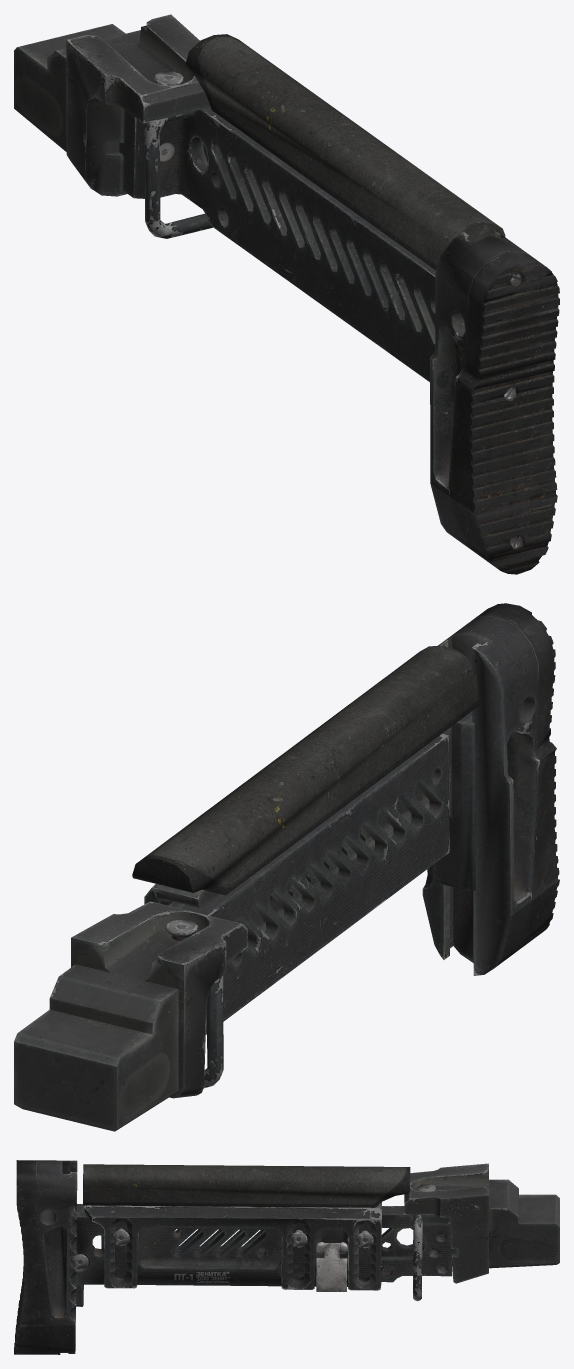
File: coronha_rebativel_akmn.glb
The picture shows the model from 3 angles, top to bottom: view 1: azimuth 30°, elevation 25°; view 2: azimuth 150°, elevation 25°; view 3: azimuth 270°, elevation 25°; orthographic projection. The views are drawn at different scales.
Visible parts, largest first — view 1: coronha_rebativel_akmn_coronha_tatica; view 2: coronha_rebativel_akmn_coronha_tatica; view 3: coronha_rebativel_akmn_coronha_tatica.
Part boxes in pixels (box(x1,y1,x2,y2)): coronha_rebativel_akmn_coronha_tatica: box(14, 14, 559, 574); coronha_rebativel_akmn_coronha_tatica: box(14, 603, 559, 1131); coronha_rebativel_akmn_coronha_tatica: box(14, 1160, 559, 1354).
Bounding box in the file's own units: 0.0436 × 0.0965 × 0.2505.
Materials: 1 (1 with a texture image).
